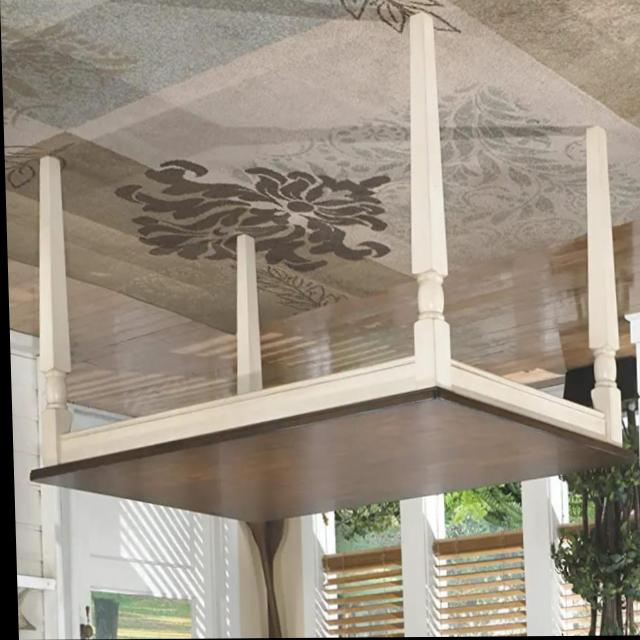Table: (12, 2, 635, 542)
